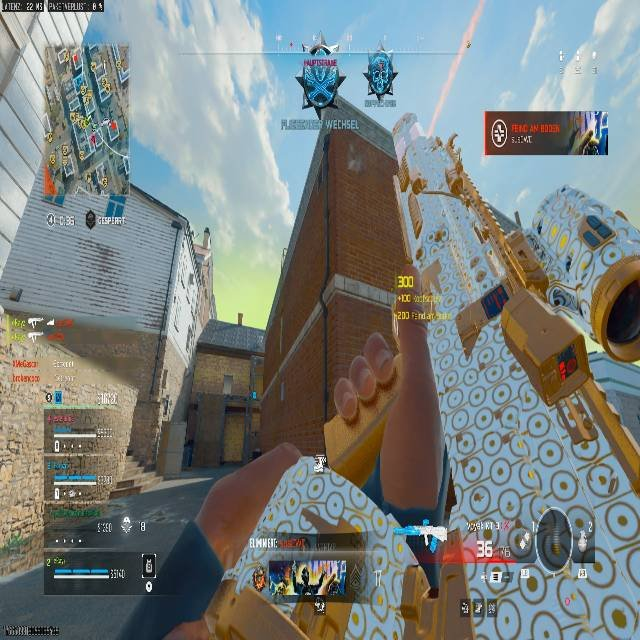head: (322, 331, 413, 497)
player: (116, 330, 448, 640), (364, 49, 396, 102)
